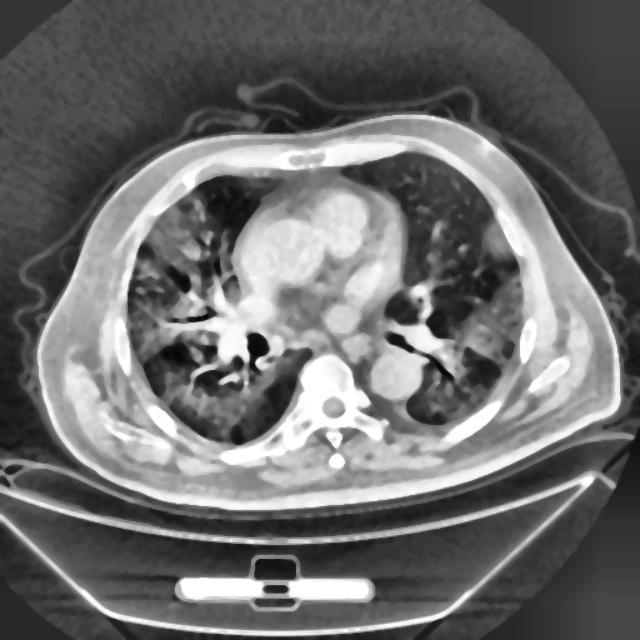covid: (31, 107, 623, 516)
